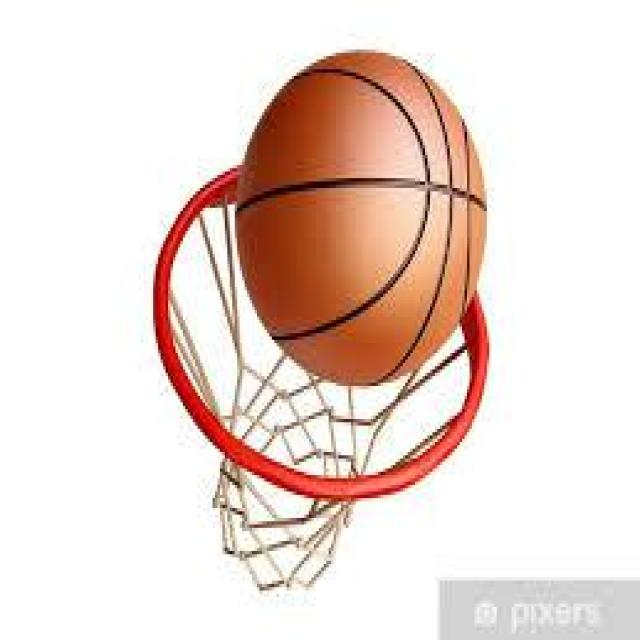ball: (234, 50, 491, 387)
